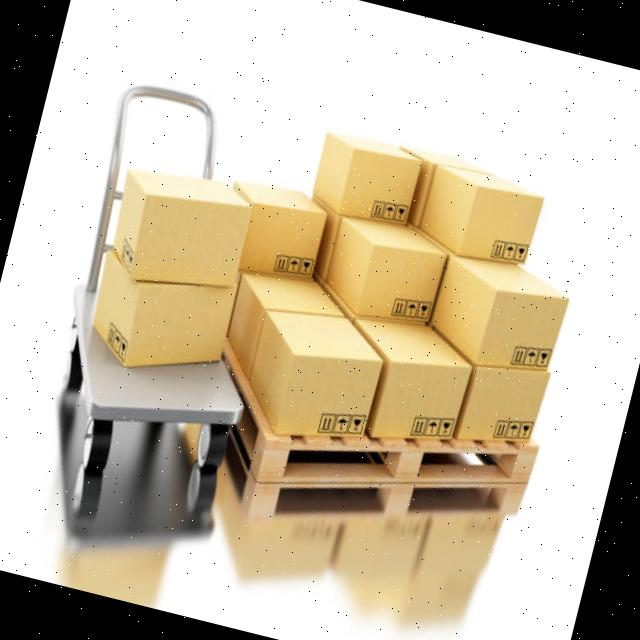Wooden-Pallets: (248, 432, 540, 493)
